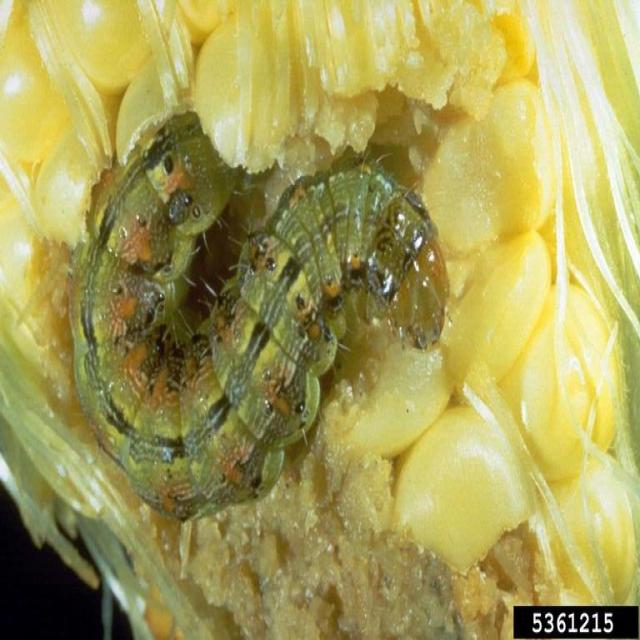Corn-earworm: (72, 117, 456, 518)
